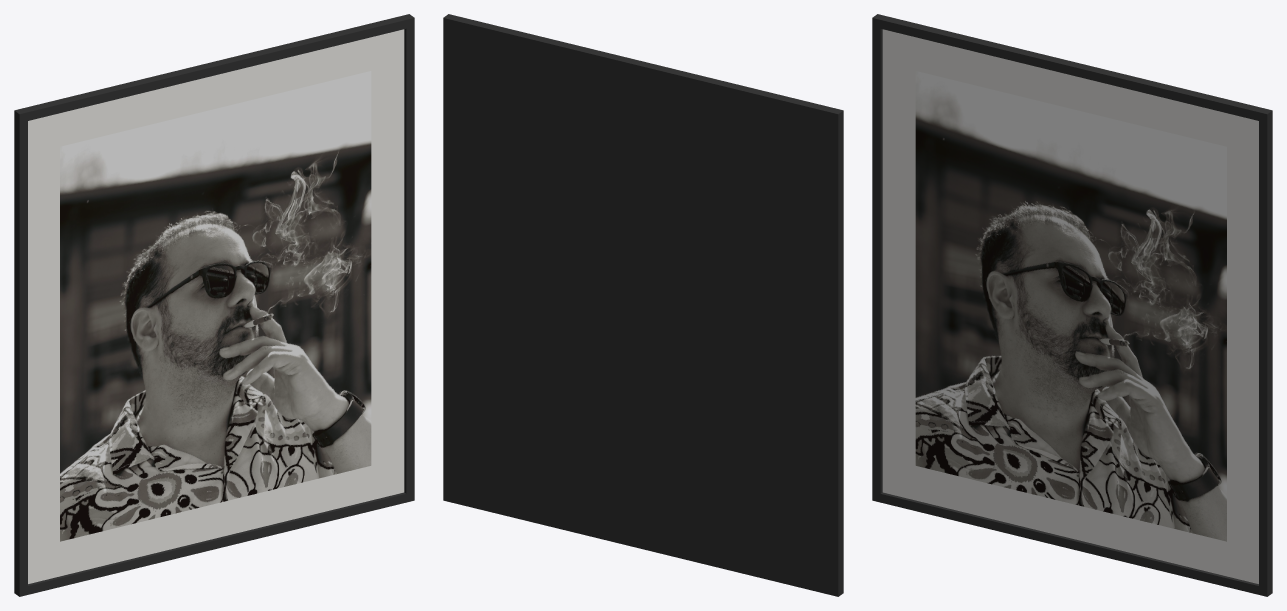
File: roken-90.gltf
3 views of the same model, side by side, from view 1: azimuth 30°, elevation 25°; view 2: azimuth 150°, elevation 25°; view 3: azimuth 330°, elevation 25° (orthographic).
Visible parts, largest first — view 1: tavla; view 2: tavla; view 3: tavla.
Part boxes in pixels (left/top/right/bottom): tavla: left=14, top=14, right=414, bottom=596; tavla: left=443, top=14, right=843, bottom=596; tavla: left=872, top=14, right=1272, bottom=596.
Size of the model in its own units: 0.9425 by 1.1 by 0.022.
Materials: 3 (1 with a texture image).
